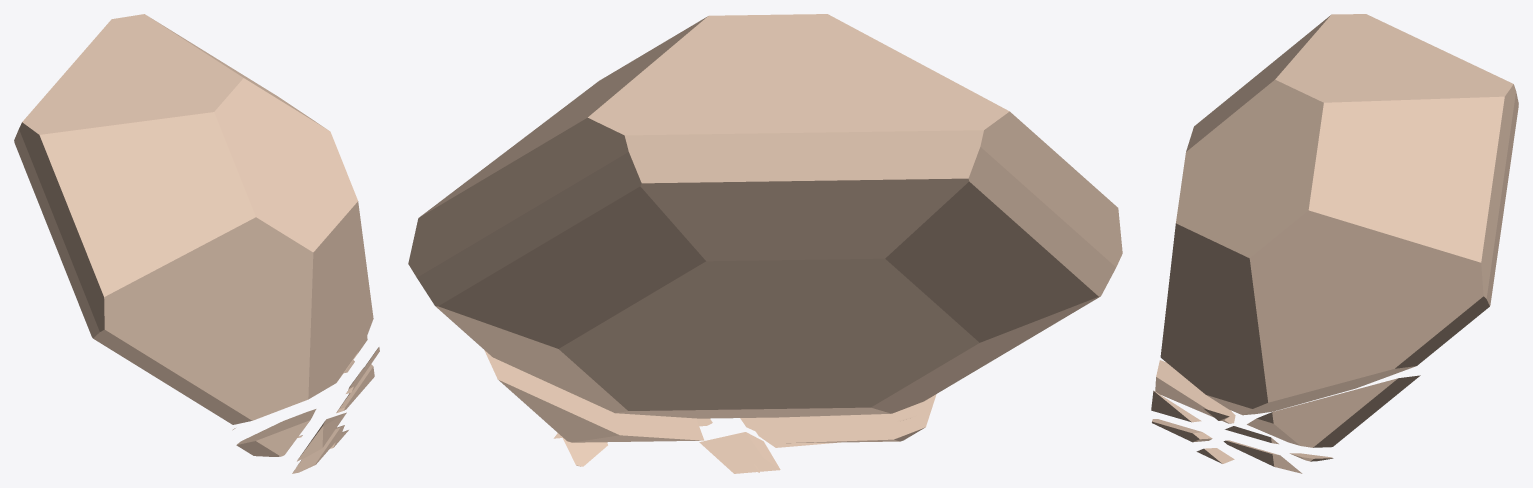
File: gem_655489.gltf
The picture shows the model from 3 angles, left to right: view 1: azimuth 30°, elevation 25°; view 2: azimuth 150°, elevation 25°; view 3: azimuth 270°, elevation 25°; orthographic projection. The views are drawn at different scales.
Size of the model in its own units: 1.99 by 2 by 1.93.
